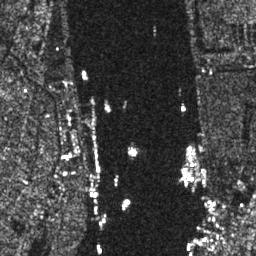ship: (180, 165, 191, 187), (200, 167, 208, 190), (122, 198, 131, 211), (103, 101, 112, 113), (81, 68, 89, 81), (96, 244, 104, 255), (114, 173, 120, 187), (93, 203, 99, 216)
